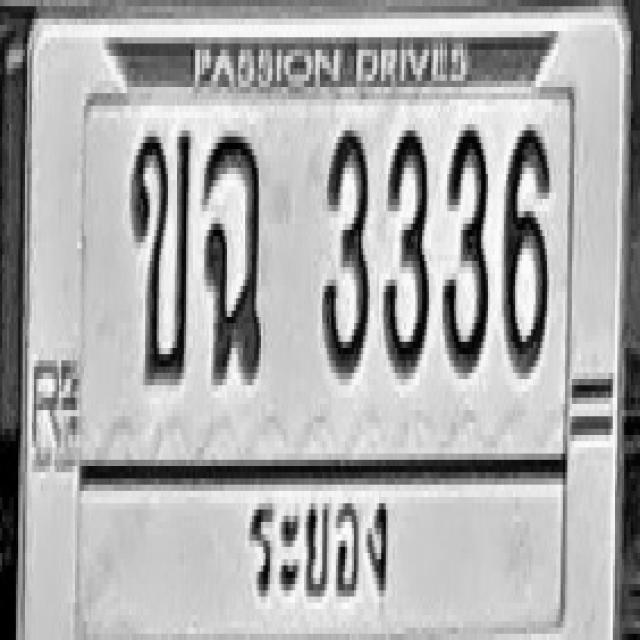11KhorKhai: (129, 128, 191, 382)
18ChorChing: (203, 131, 262, 379)
3: (321, 124, 369, 373), (382, 124, 428, 373), (442, 124, 488, 373)
6: (503, 124, 548, 373)
Rayong: (244, 486, 396, 612)
